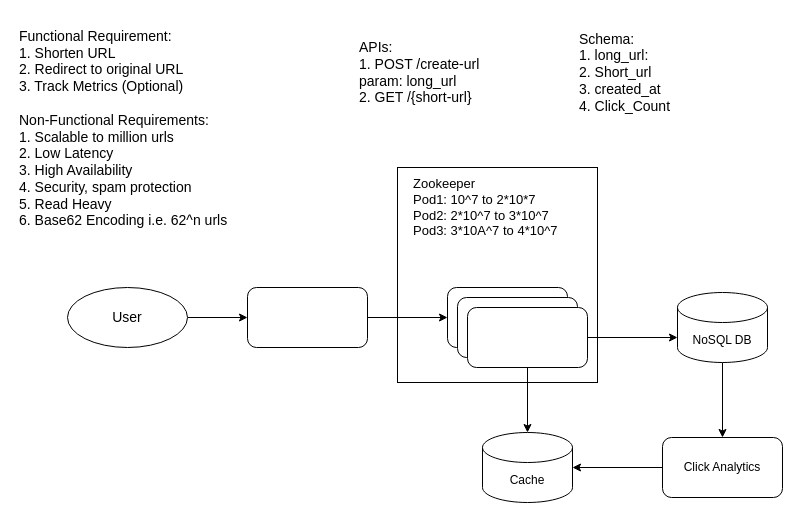
The diagram is 800 pixels wide and 520 high, and some of its shapes have lost their labels. The shapes that lost their labels are listed below. From the top down, each one's centre as x and y in pixels, then its label:
At point (307, 317): "Load Balancer".
At point (527, 337): "URL Shortner Service".
